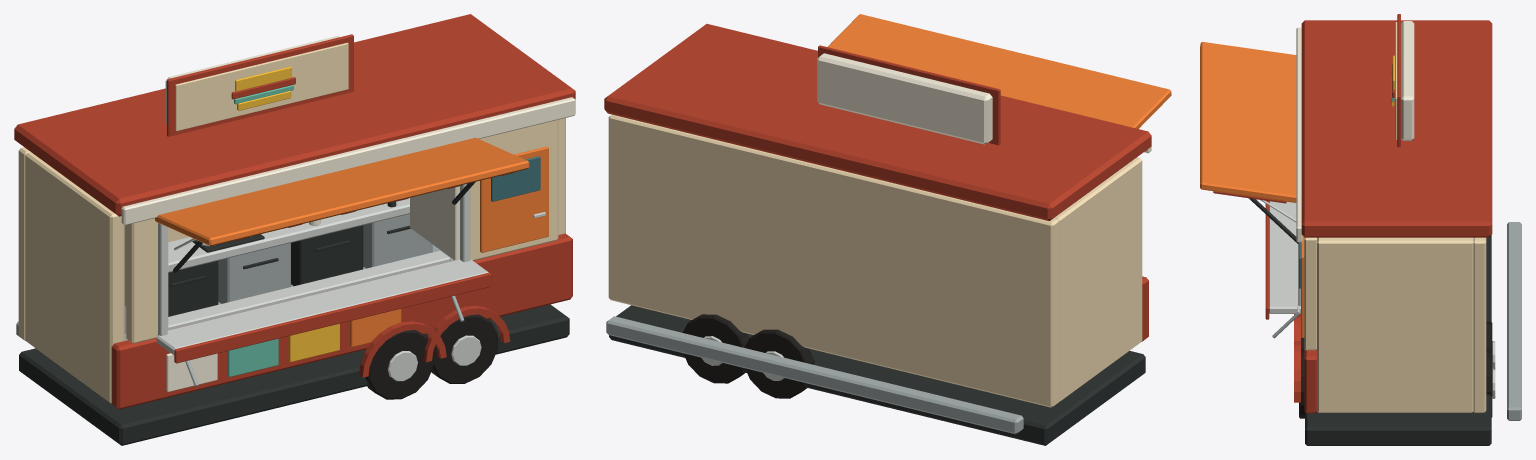
The model's file is food_truck_s1.glb.
3 renders of one model, left to right at view 1: azimuth 30°, elevation 25°; view 2: azimuth 150°, elevation 25°; view 3: azimuth 270°, elevation 25°, orthographic. The views are drawn at different scales.
Parts seen in each view (by area): view 1: Tutorial_Food_Truck_Booth_S1; view 2: Tutorial_Food_Truck_Booth_S1; view 3: Tutorial_Food_Truck_Booth_S1.
Boxes of the visible parts, box(x1,y1,x2,y2) form: Tutorial_Food_Truck_Booth_S1: box(14, 14, 575, 445); Tutorial_Food_Truck_Booth_S1: box(604, 14, 1171, 445); Tutorial_Food_Truck_Booth_S1: box(1200, 14, 1521, 445).
Size of the model in its own units: 6.4 by 4.3 by 4.27.
